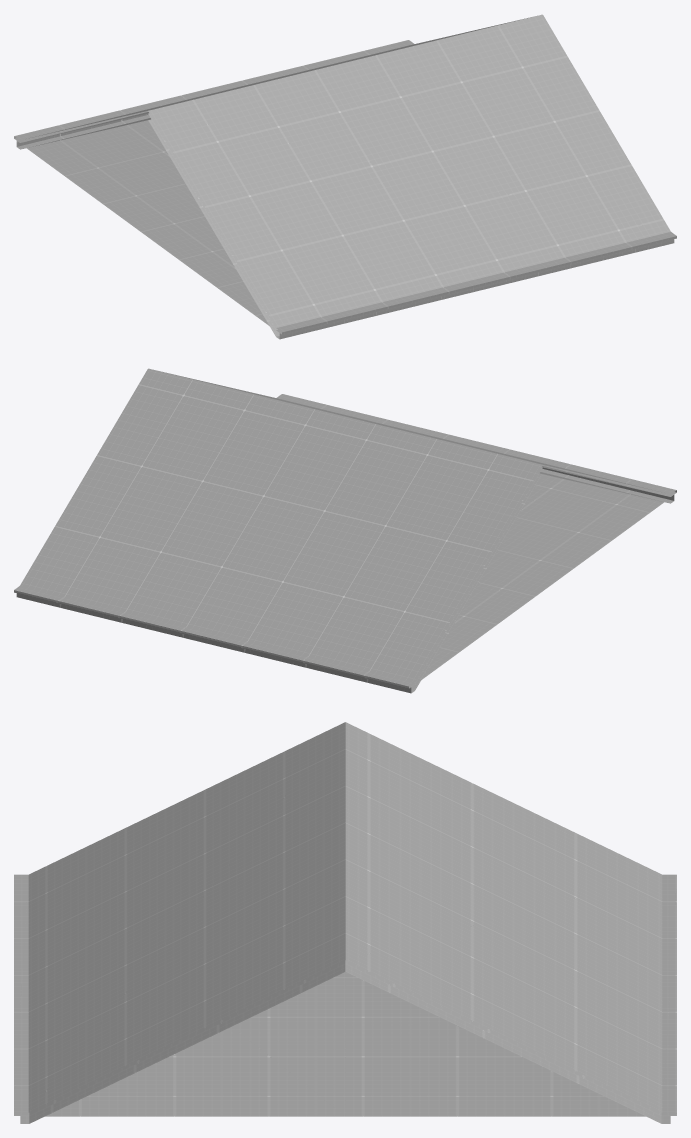
Rendered from Roof.007.fbx.
The picture shows the model from 3 angles, top to bottom: view 1: azimuth 30°, elevation 25°; view 2: azimuth 150°, elevation 25°; view 3: azimuth 270°, elevation 25°; orthographic projection. The views are drawn at different scales.
Visible parts, largest first — view 1: Roof.007; view 2: Roof.007; view 3: Roof.007.
Part boxes in pixels (<box>): Roof.007: <box>14,14,676,339</box>; Roof.007: <box>14,368,676,693</box>; Roof.007: <box>14,722,676,1123</box>.
Bounding box in the file's own units: 600 × 192 × 706.
